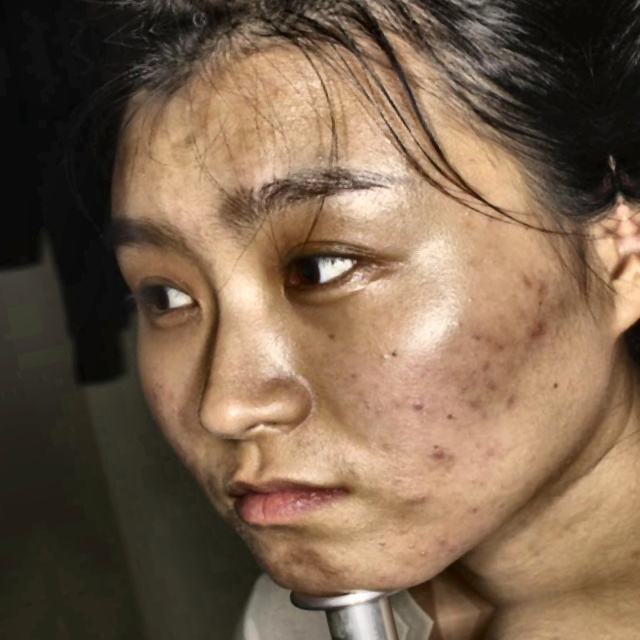comedone: (523, 313, 553, 347), (423, 441, 456, 469)
